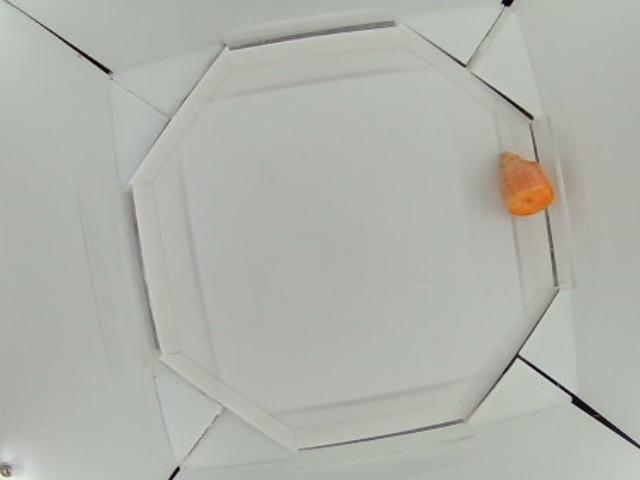Carrot: (498, 150, 555, 216)
